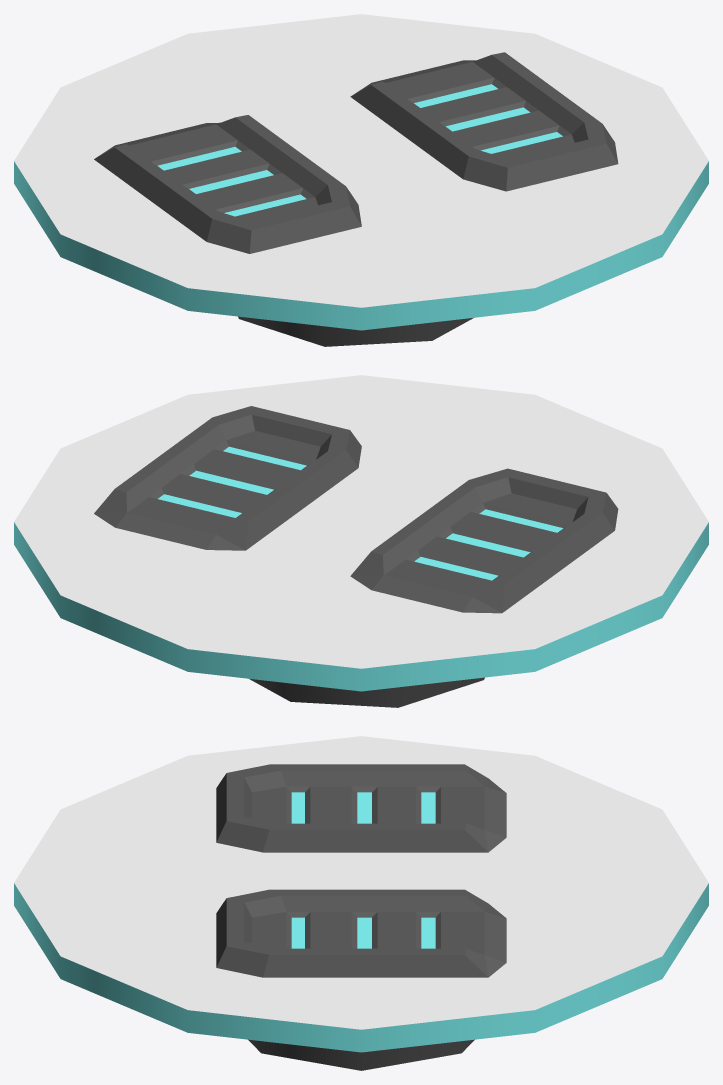
Rendered from Hangar_Hoverboard_01.fbx.
3 renders of one model, top to bottom at view 1: azimuth 30°, elevation 25°; view 2: azimuth 150°, elevation 25°; view 3: azimuth 270°, elevation 25°, orthographic.
Visible parts, largest first — view 1: Hoverboard_01; view 2: Hoverboard_01; view 3: Hoverboard_01.
Part boxes in pixels (x1,y1,x2,y2): Hoverboard_01: (14,14,708,346); Hoverboard_01: (14,375,708,707); Hoverboard_01: (14,736,708,1070).
Bounding box in the file's own units: 79.38 × 19.08 × 79.38.
